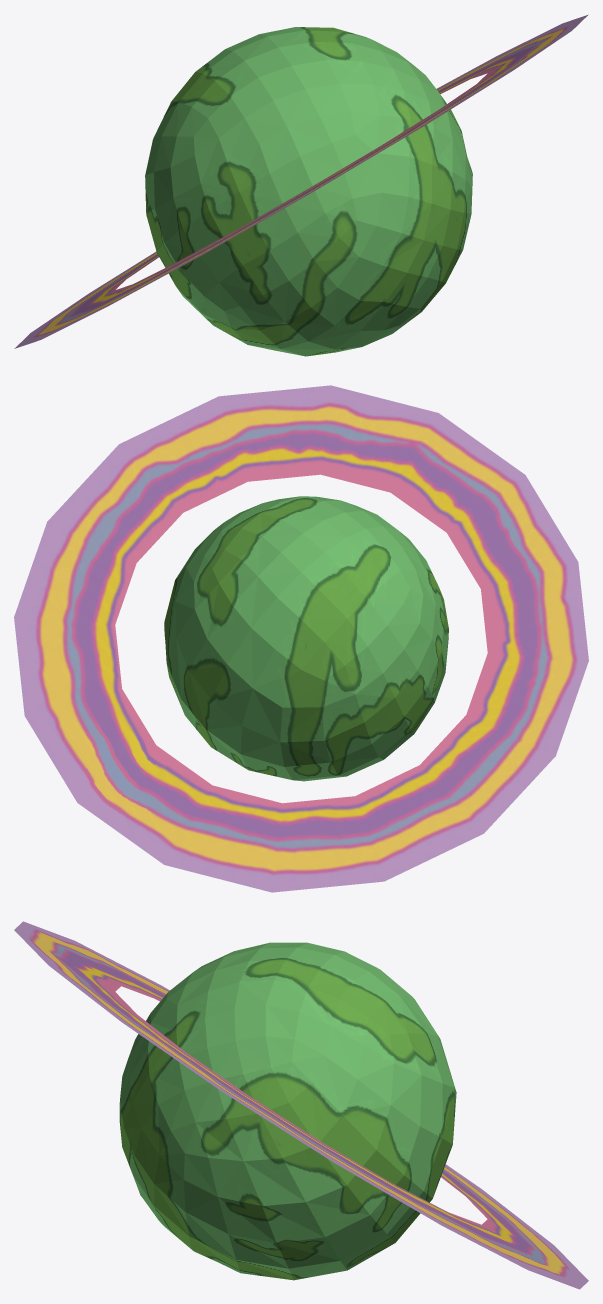
File: planeta.OBJ
3 views of the same model, one above another, from view 1: azimuth 30°, elevation 25°; view 2: azimuth 150°, elevation 25°; view 3: azimuth 270°, elevation 25° (orthographic). The views are drawn at different scales.
Parts seen in each view (by area): view 1: Group59300, Group37754; view 2: Group37754, Group59300; view 3: Group59300, Group37754.
Boxes of the visible parts, x1,y1,x2,y2 form: Group59300: (145, 27, 472, 356); Group37754: (14, 14, 588, 348); Group37754: (14, 385, 588, 892); Group59300: (164, 496, 448, 781); Group59300: (119, 942, 456, 1280); Group37754: (14, 921, 588, 1289).
Size of the model in its own units: 11.31 by 7.03 by 9.91.
